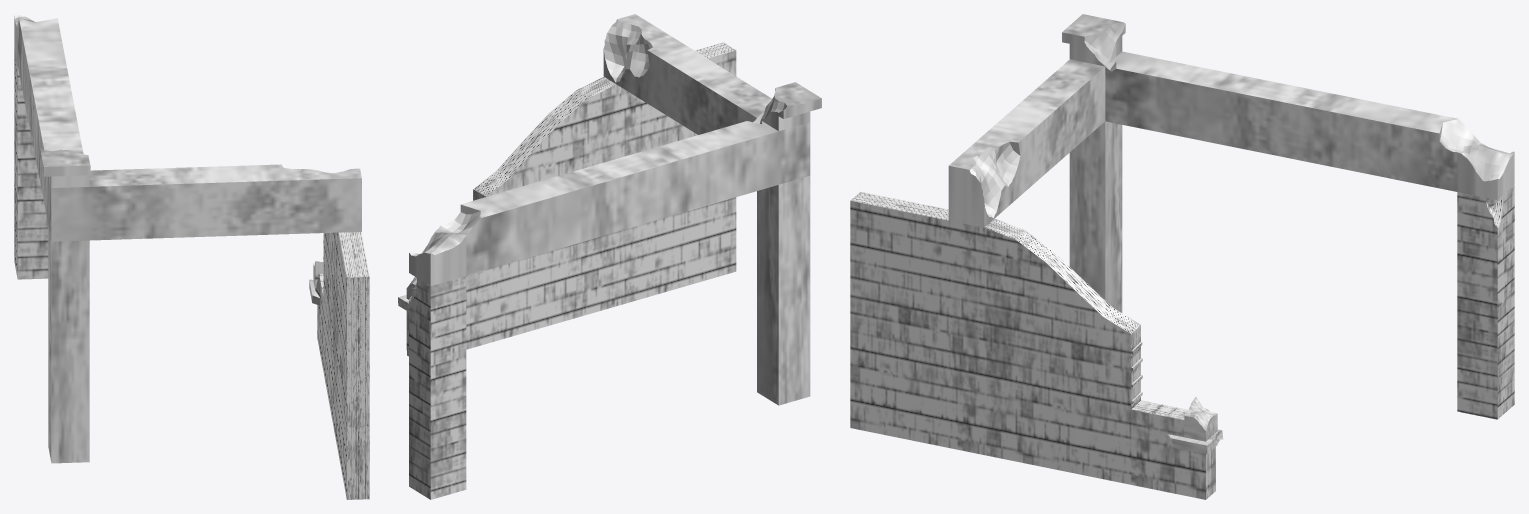
File: Ruins.fbx
3 renders of one model, left to right at view 1: azimuth 30°, elevation 25°; view 2: azimuth 150°, elevation 25°; view 3: azimuth 270°, elevation 25°, orthographic. The views are drawn at different scales.
Visible parts, largest first — view 1: Ruins; view 2: Ruins; view 3: Ruins.
Boxes of the visible parts, x1,y1,x2,y2 form: Ruins: (14, 14, 369, 499); Ruins: (398, 14, 821, 499); Ruins: (850, 14, 1514, 499).
Bounding box in the file's own units: 4445 × 3507 × 6855.
